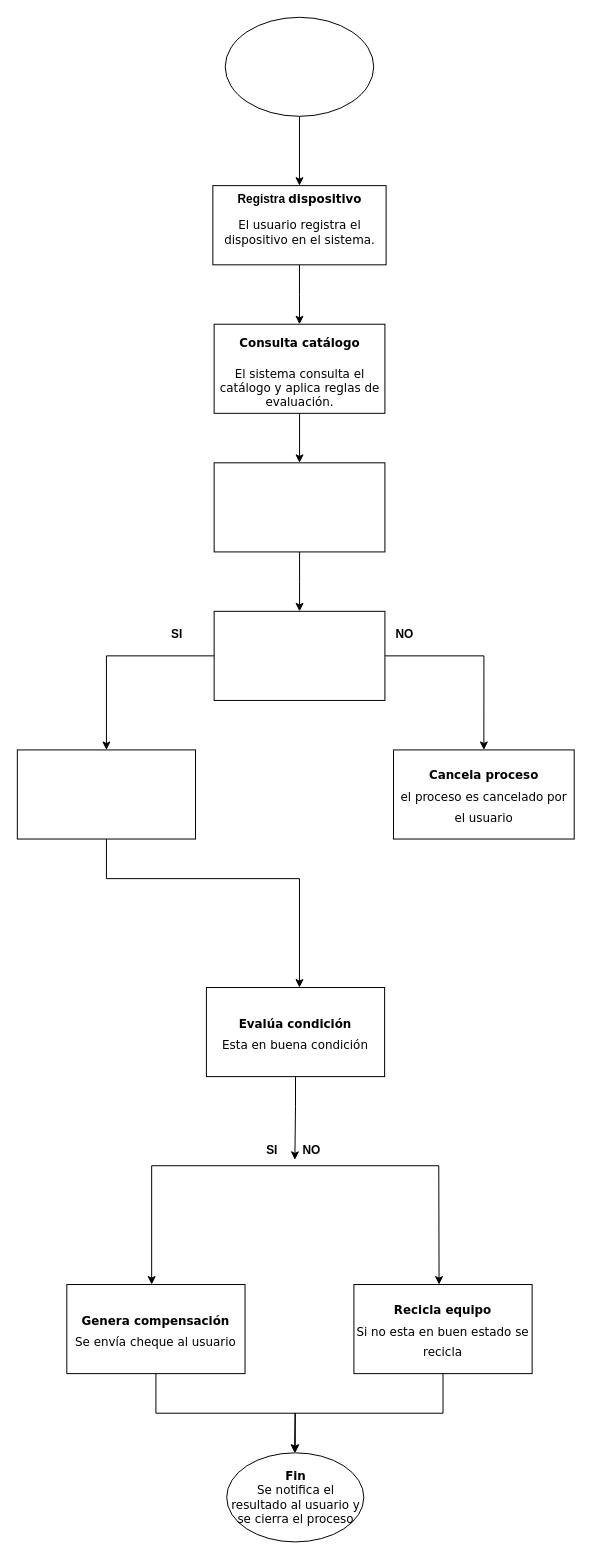
Some shapes in this 592 by 1559 pixel diagram are drawn without their labels. The centre of each missing label's shape, as x and y in pixels:
"Genera cotización Se genera una cotización y se notifica al usuario" belongs at [299,507].
"Gestión envió o traslado El usuariorecibe la caja y envia el equipo" belongs at [106,794].
"Inicio El usuario inicia el proceso desde la web/app." belongs at [299,66].
"Usuario acepta? ¿El usuario acepta la cotización?" belongs at [299,655].
